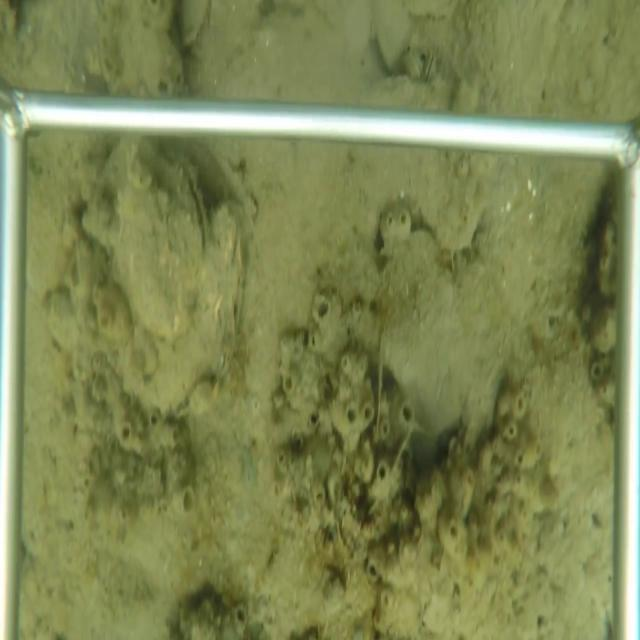Oyster-Closed: (115, 201, 250, 415), (79, 132, 208, 343)
Oyster-Indeterminate: (372, 3, 411, 78), (177, 3, 211, 53)
